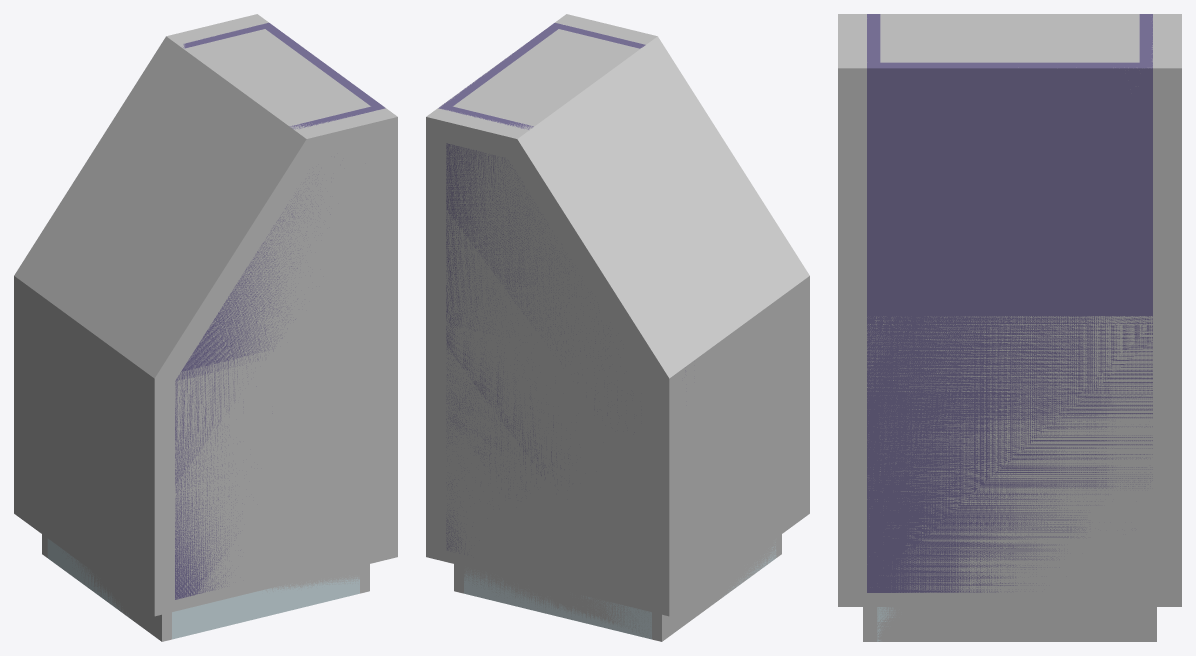
File: SM_Building_15_Top.fbx
3 renders of one model, left to right at view 1: azimuth 30°, elevation 25°; view 2: azimuth 150°, elevation 25°; view 3: azimuth 270°, elevation 25°, orthographic. The views are drawn at different scales.
Visible parts, largest first — view 1: SM_Building_15_Top_ConvexHulls, SM_Building_15_Top; view 2: SM_Building_15_Top_ConvexHulls, SM_Building_15_Top; view 3: SM_Building_15_Top, SM_Building_15_Top_ConvexHulls.
Part boxes in pixels (x1,y1,x2,y2): SM_Building_15_Top_ConvexHulls: [14, 14, 397, 641]; SM_Building_15_Top: [47, 22, 385, 639]; SM_Building_15_Top_ConvexHulls: [426, 14, 809, 641]; SM_Building_15_Top: [438, 23, 776, 639]; SM_Building_15_Top: [867, 14, 1152, 641]; SM_Building_15_Top_ConvexHulls: [838, 14, 1181, 641].
Size of the model in its own units: 800 by 800 by 1500.
Materials: 2 (1 with a texture image).
